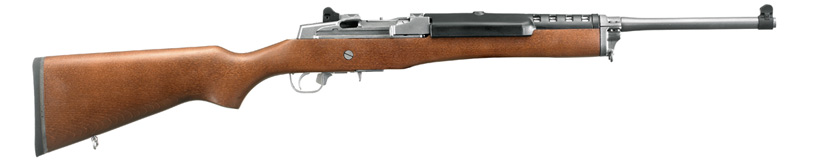Arma Real: (30, 7, 780, 158)
